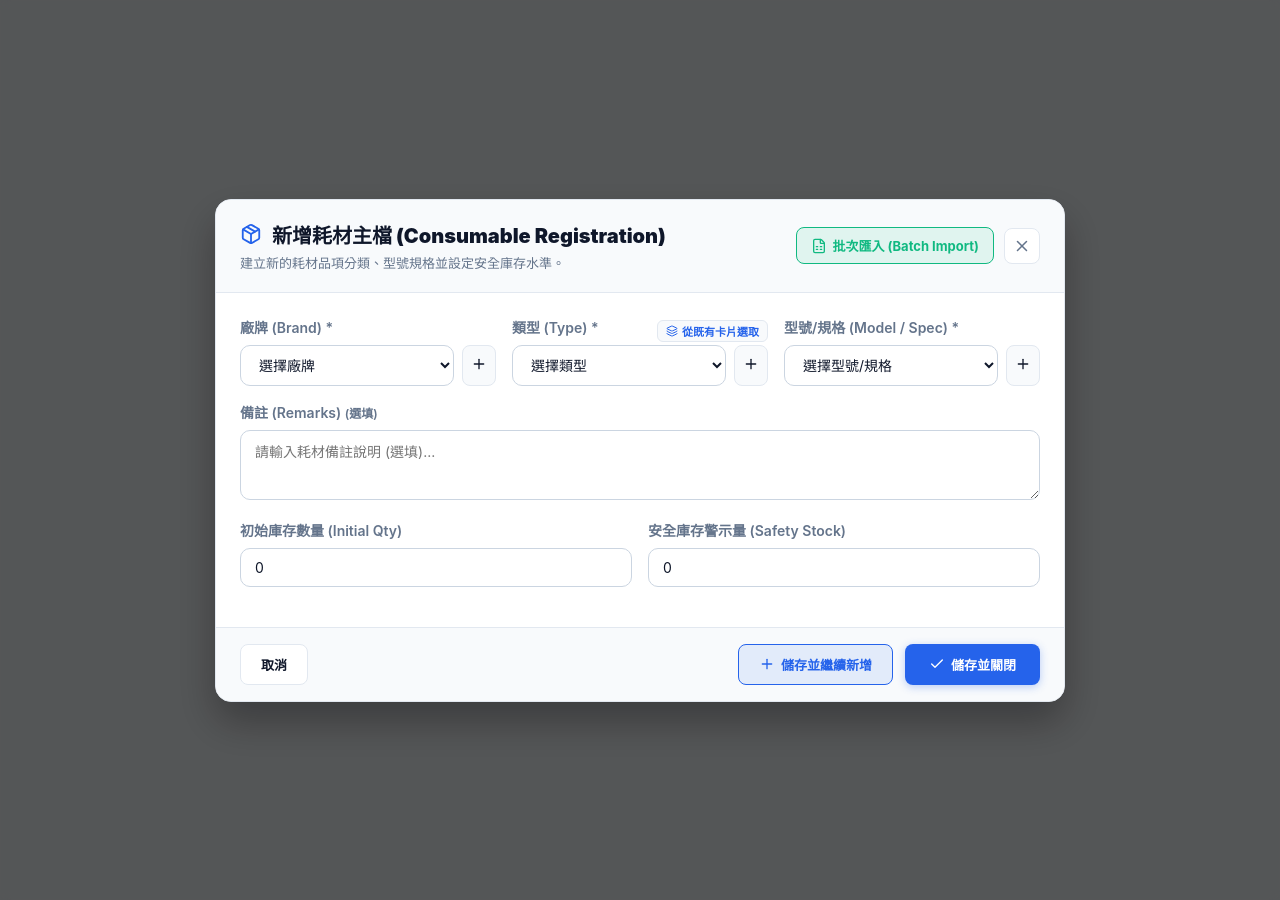
Test: 耗材列表與新增耗材彈窗批次匯入整合測試 › 在 ConsumableRegistrationModal (新增耗材) 彈窗內部，應提供批次匯入按鈕並可正常開啟匯入彈窗
Check: the heading "新增耗材主檔 (Consumable Registration)" is shown, box [240,220,666,248]
Note: 點擊批次匯入按鈕
Click the button "批次匯入 (Batch Import)".
click(895, 246)  # box [796,227,994,264]
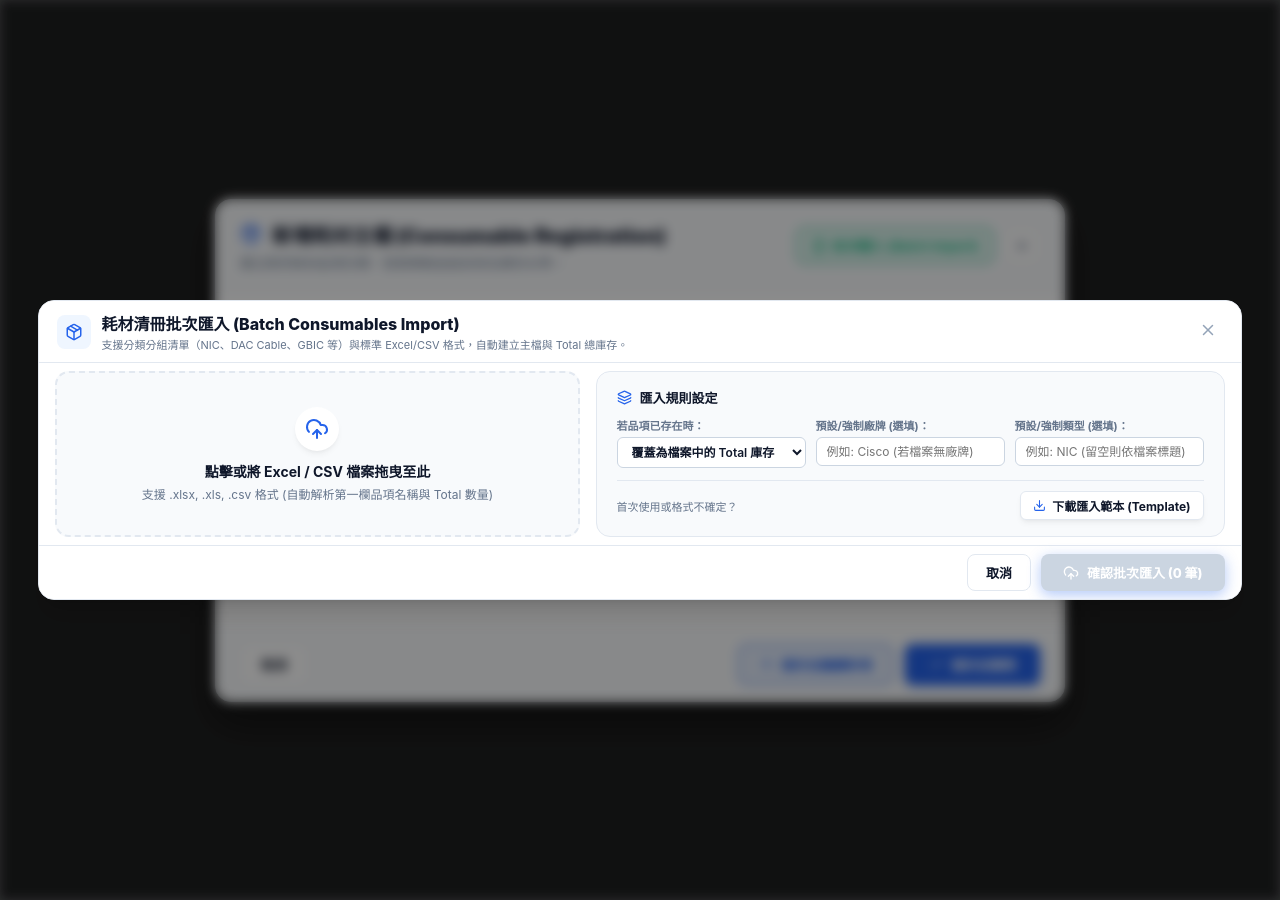
Check: the heading "耗材清冊批次匯入 (Batch Consumables Import)" is shown, box [101,314,460,334]
